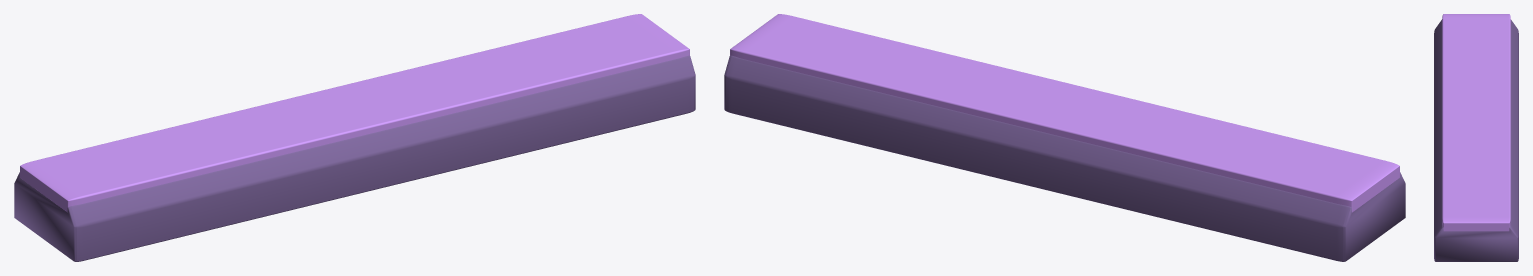
3 views of the same model, side by side, from view 1: azimuth 30°, elevation 25°; view 2: azimuth 150°, elevation 25°; view 3: azimuth 270°, elevation 25° (orthographic). The views are drawn at different scales.
Visible parts, largest first — view 1: Cube.021, Plane.026; view 2: Cube.021, Plane.026; view 3: Plane.026, Cube.021.
Part boxes in pixels (x1,y1,x2,y2): Cube.021: (14,55,695,261); Plane.026: (20,14,689,212); Cube.021: (724,55,1405,261); Plane.026: (730,14,1399,212); Plane.026: (1442,14,1510,231); Cube.021: (1434,19,1518,261).
Size of the model in its own units: 776 by 70.78 by 133.
